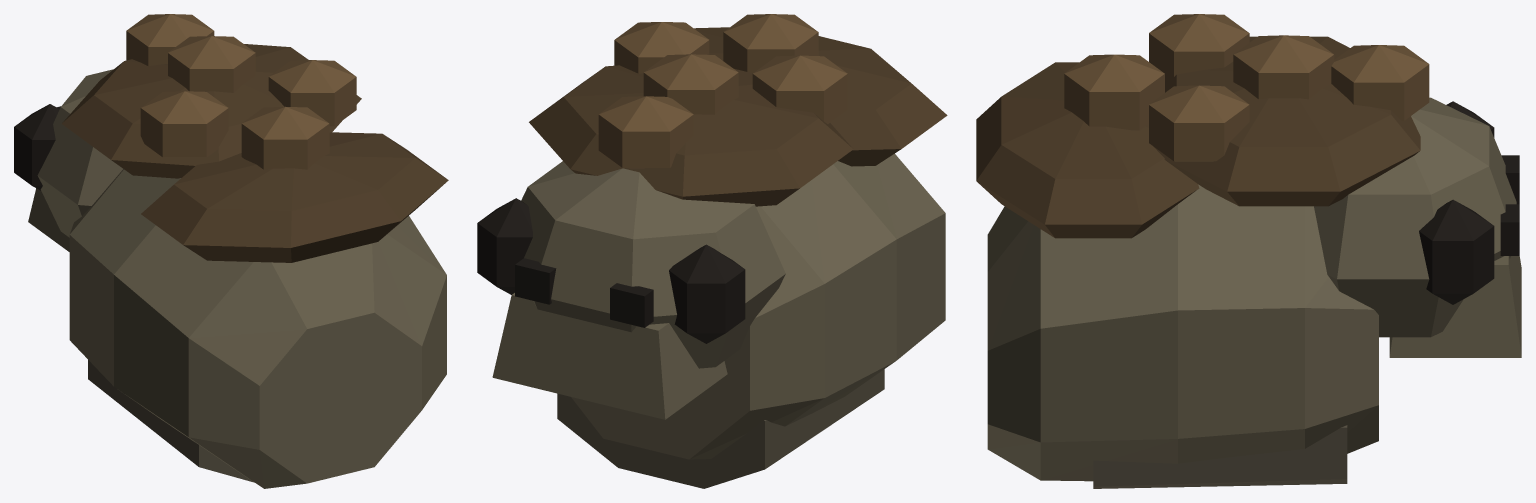
File: animal_dryad_medicinemaker_bones.obj
3 renders of one model, left to right at view 1: azimuth 30°, elevation 25°; view 2: azimuth 150°, elevation 25°; view 3: azimuth 270°, elevation 25°, orthographic. The views are drawn at different scales.
Bounding box in the file's own units: 0.4918 × 0.6143 × 0.7041.
